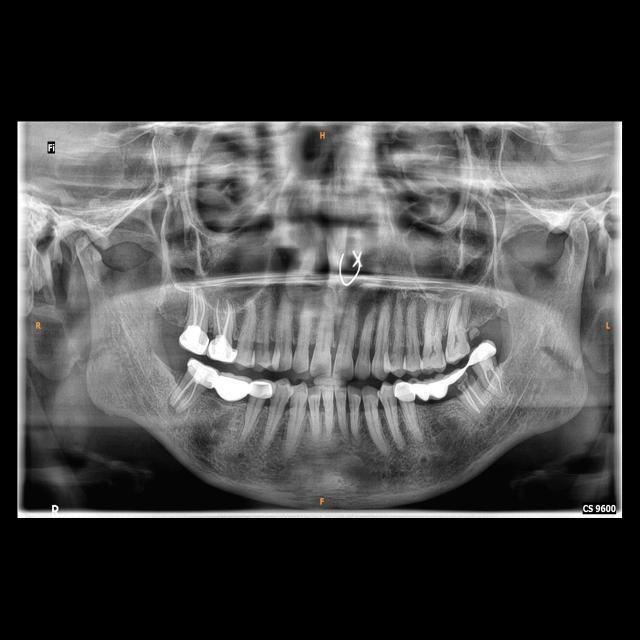dentin-curugu: (455, 370, 477, 393)
kanal-tedavisi: (210, 294, 232, 336), (172, 381, 198, 412), (458, 382, 483, 414), (188, 294, 210, 329), (481, 367, 507, 396)
kaplama: (175, 324, 209, 358), (207, 330, 240, 363), (183, 359, 217, 390), (445, 358, 471, 385), (469, 342, 497, 365), (250, 377, 273, 400), (394, 382, 417, 403)
kopru: (411, 373, 468, 411), (205, 372, 256, 406)
